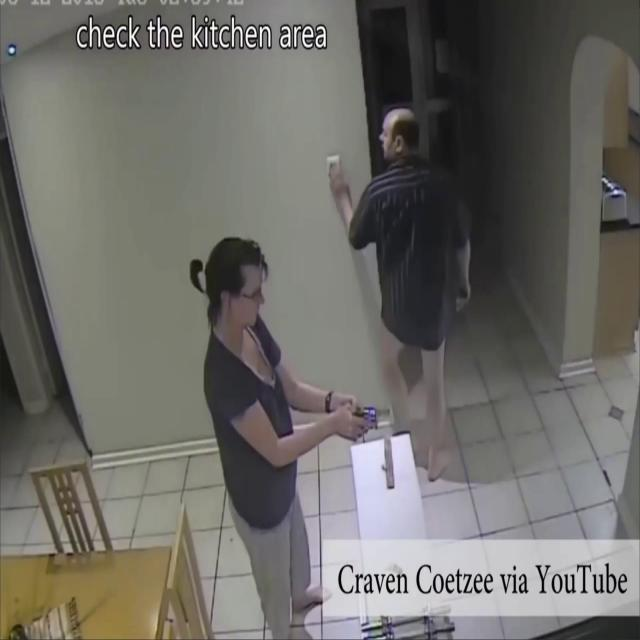gun: (352, 403, 392, 442)
